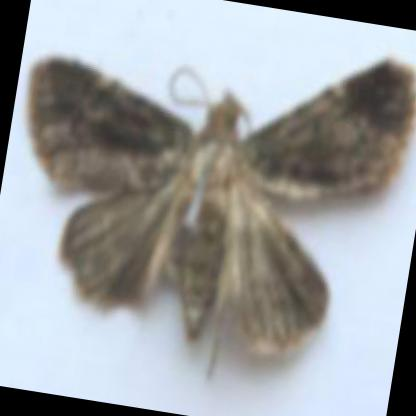Leaf Webber: (28, 60, 413, 357)
